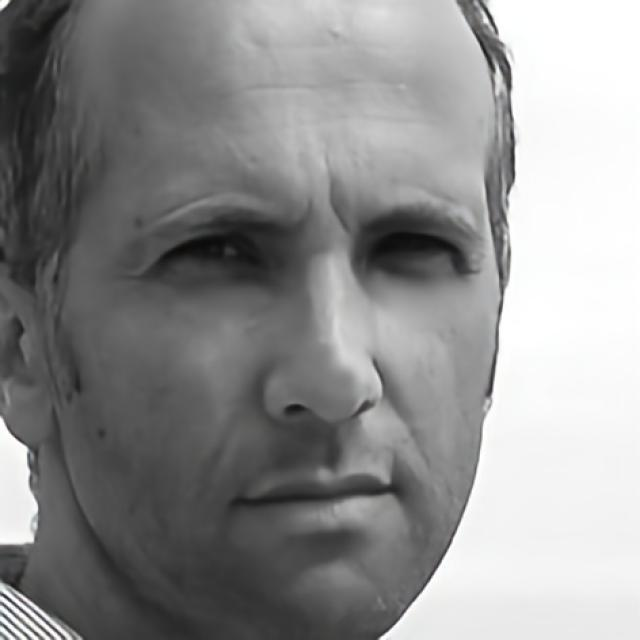anger: (56, 26, 503, 622)
